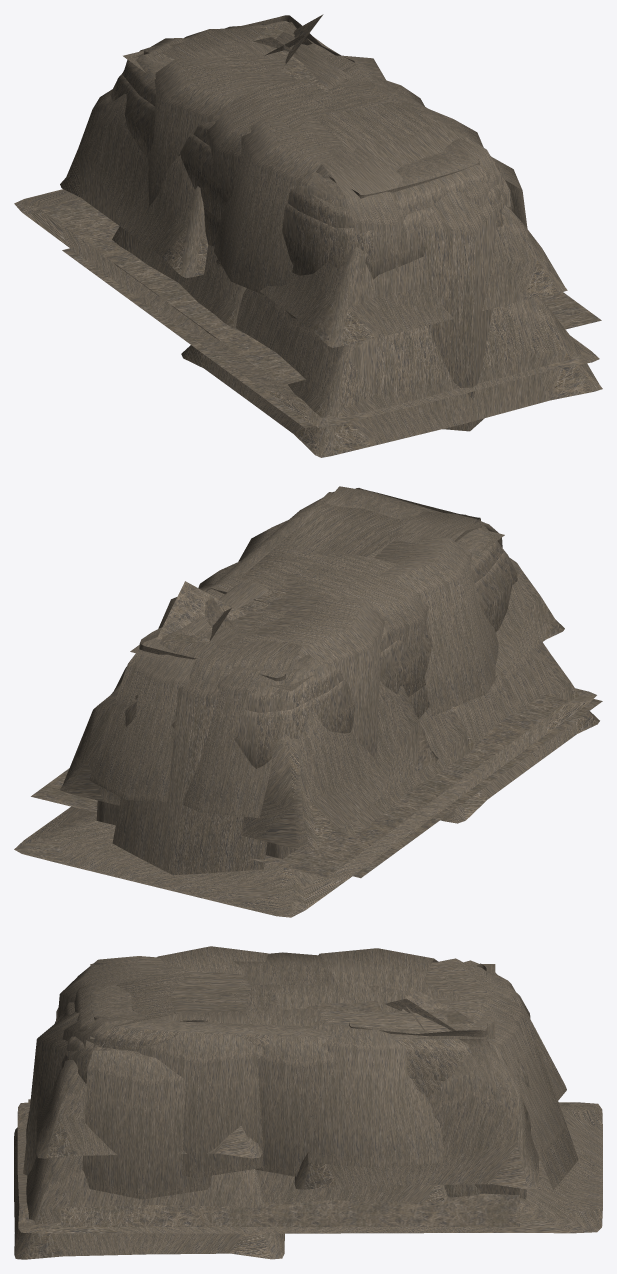
File: SM_Hay03.fbx
3 views of the same model, one above another, from view 1: azimuth 30°, elevation 25°; view 2: azimuth 150°, elevation 25°; view 3: azimuth 270°, elevation 25° (orthographic). The views are drawn at different scales.
Visible parts, largest first — view 1: SM_Hay03; view 2: SM_Hay03; view 3: SM_Hay03.
Boxes of the visible parts, left/top/right/bottom form: SM_Hay03: left=14, top=14, right=602, bottom=457; SM_Hay03: left=14, top=486, right=602, bottom=917; SM_Hay03: left=14, top=946, right=602, bottom=1259.
Size of the model in its own units: 103 by 177 by 79.75.
